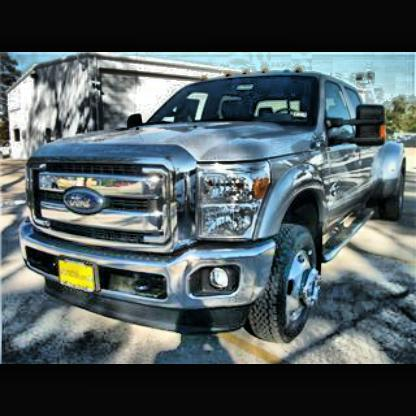Ford F-450 Super Duty Crew Cab 2012: (20, 69, 408, 352)
